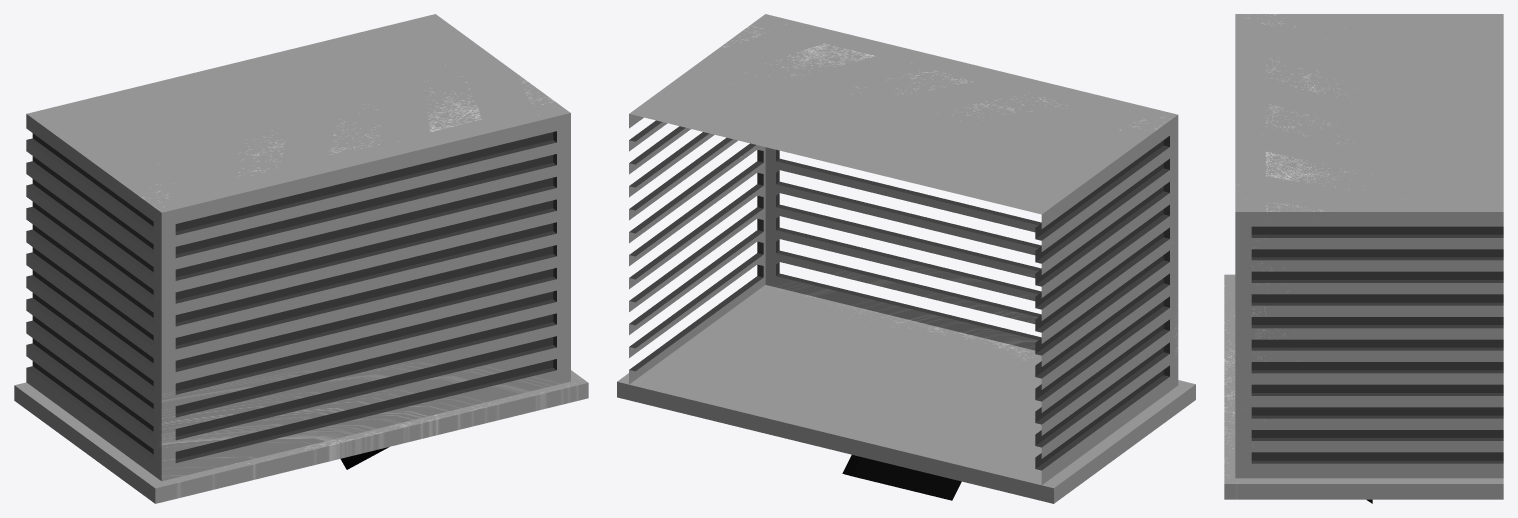
Rendered from object_B3_Air_001.glb.
The picture shows the model from 3 angles, left to right: view 1: azimuth 30°, elevation 25°; view 2: azimuth 150°, elevation 25°; view 3: azimuth 270°, elevation 25°; orthographic projection.
Parts seen in each view (by area): view 1: B3 Air.001; view 2: B3 Air.001; view 3: B3 Air.001.
Part boxes in pixels (x1,y1,x2,y2): B3 Air.001: (14, 14, 588, 503); B3 Air.001: (617, 14, 1195, 503); B3 Air.001: (1224, 14, 1503, 503).
Size of the model in its own units: 0.9019 by 0.7362 by 0.5083.
Materials: 2 (1 with a texture image).
